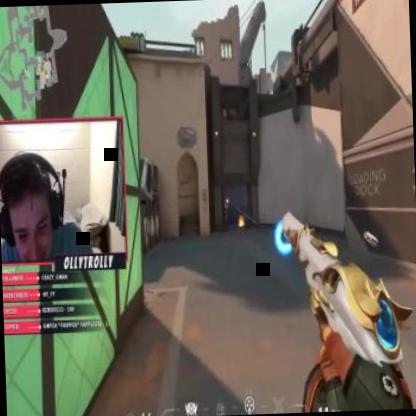enemy: (223, 197, 230, 221)
enemy_head: (226, 198, 230, 204)
